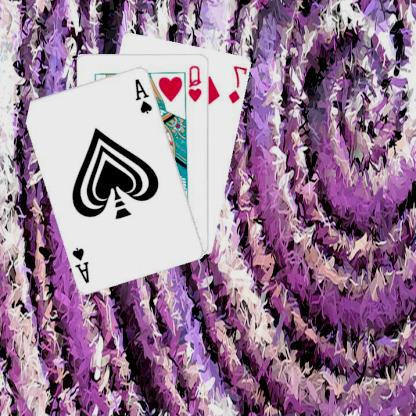7D: (228, 63, 248, 105)
AS: (72, 244, 92, 285), (134, 76, 155, 114)
QH: (188, 62, 205, 103)
